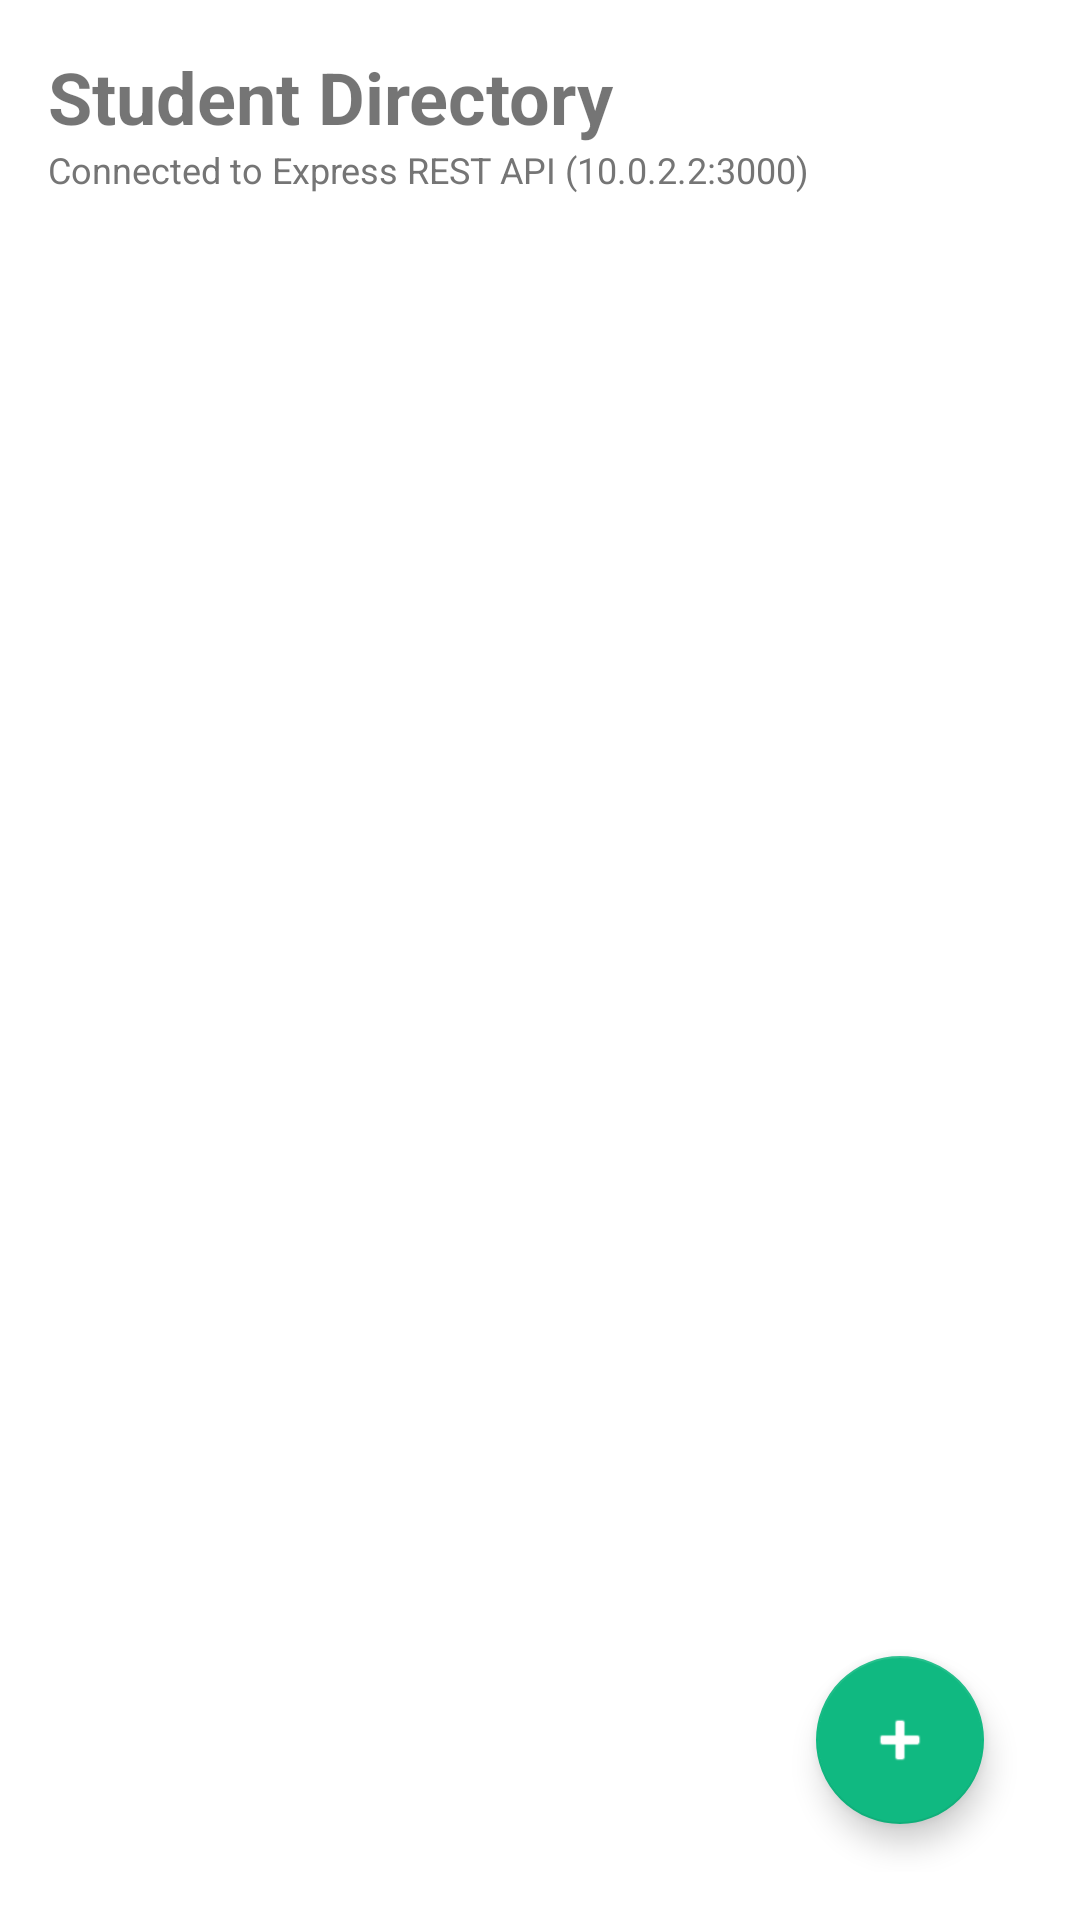

Where to tap for icons on this 1080w x 1920h app screen, as (x,y):
Add Student: (900,1740)
